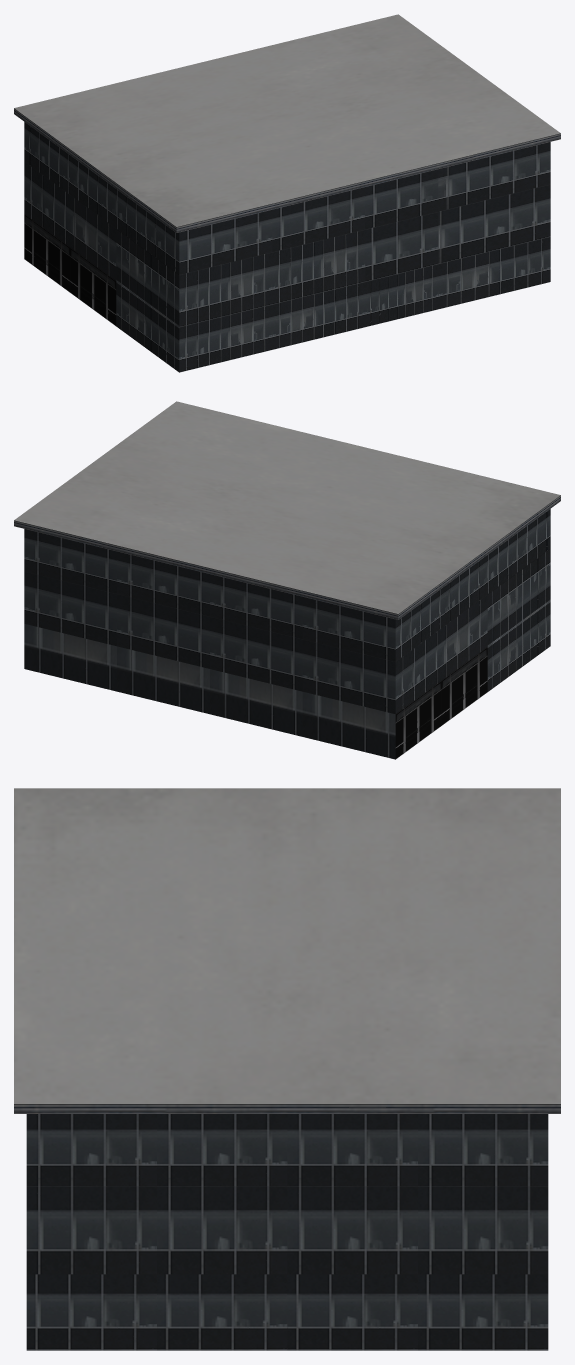
The model's file is Modern Building 12.FBX.
The picture shows the model from 3 angles, top to bottom: view 1: azimuth 30°, elevation 25°; view 2: azimuth 150°, elevation 25°; view 3: azimuth 270°, elevation 25°; orthographic projection. The views are drawn at different scales.
Parts seen in each view (by area): view 1: Modern Building 12; view 2: Modern Building 12; view 3: Modern Building 12.
Part boxes in pixels (x1,y1,x2,y2): Modern Building 12: (14,14,560,372); Modern Building 12: (14,401,560,759); Modern Building 12: (14,788,560,1350).
Bounding box in the file's own units: 1081 × 403 × 792.
